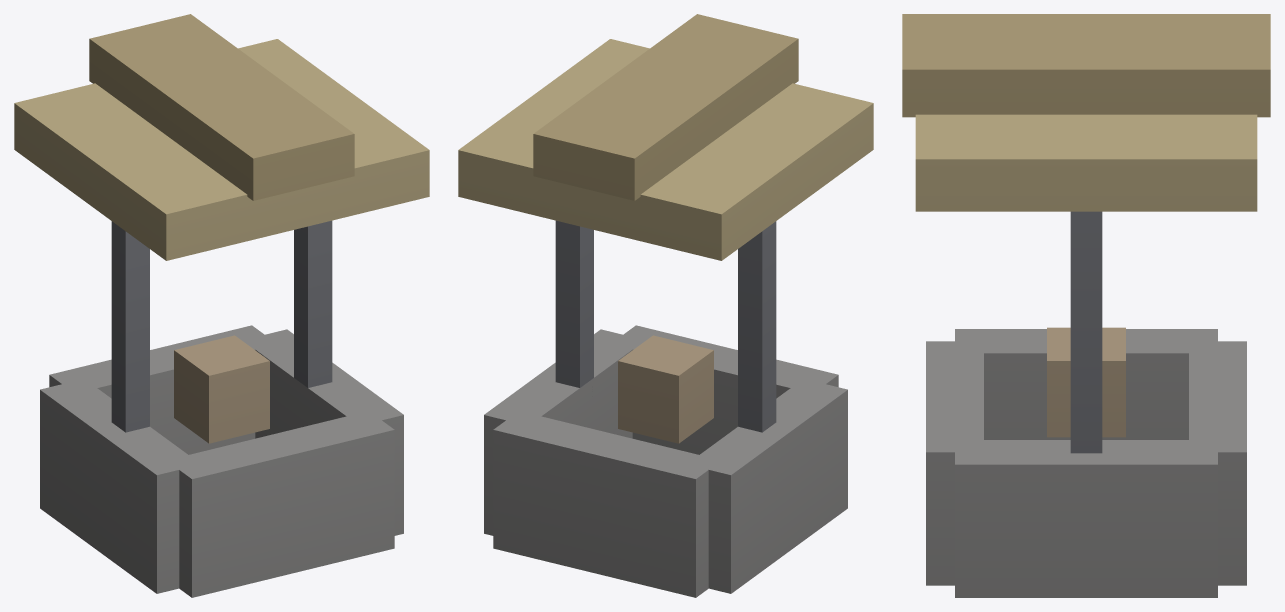
File: well.glb
3 views of the same model, side by side, from view 1: azimuth 30°, elevation 25°; view 2: azimuth 150°, elevation 25°; view 3: azimuth 270°, elevation 25° (orthographic). The views are drawn at different scales.
Parts seen in each view (by area): view 1: root; view 2: root; view 3: root.
Boxes of the visible parts, bbox=[...] form: root: bbox=[14, 14, 429, 597]; root: bbox=[458, 14, 873, 597]; root: bbox=[902, 14, 1270, 597].
Size of the model in its own units: 1.3 by 2.05 by 1.4.
